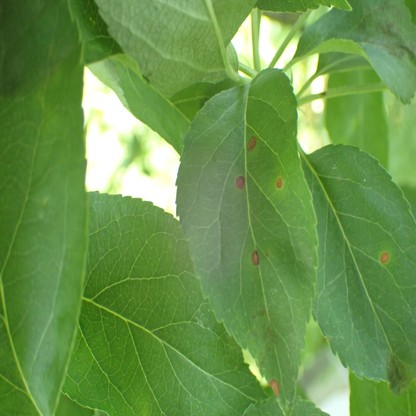frogeye_leaf_spot: (269, 380, 280, 399), (234, 175, 245, 188), (247, 137, 257, 151), (251, 249, 259, 265), (381, 253, 390, 264), (275, 176, 282, 189)
scab: (386, 358, 411, 396)
